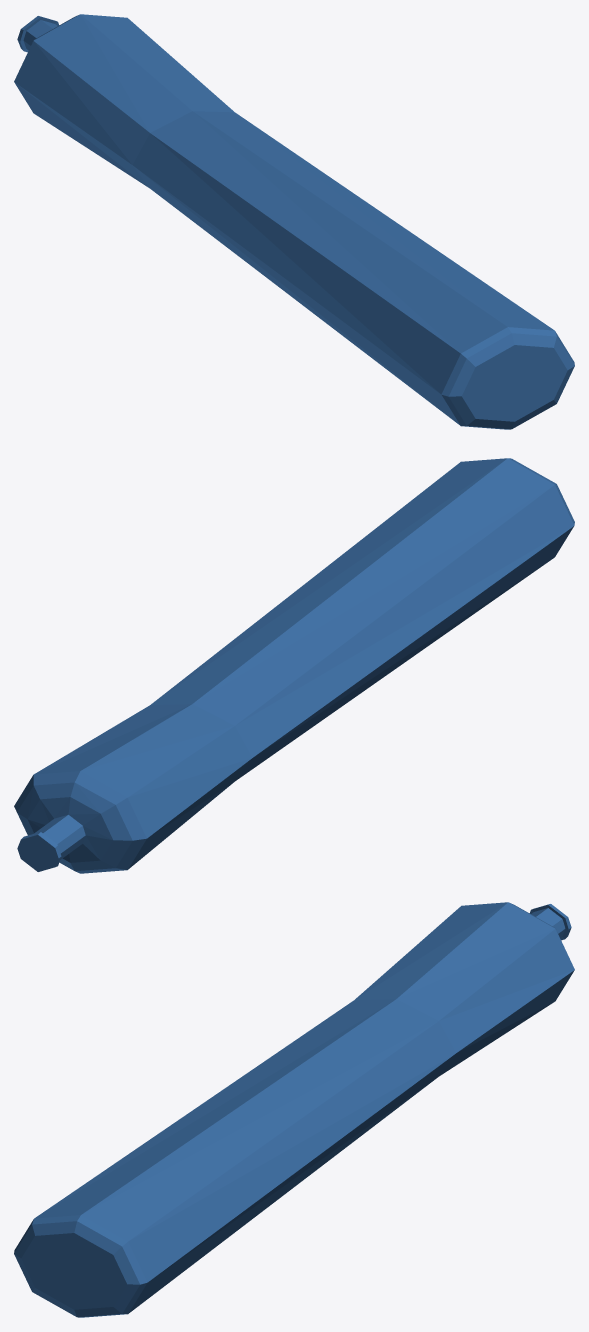
File: wip_sandbag.glb
3 views of the same model, one above another, from view 1: azimuth 30°, elevation 25°; view 2: azimuth 150°, elevation 25°; view 3: azimuth 330°, elevation 25° (orthographic).
Visible parts, largest first — view 1: product-27b554e0-7374-44e7-abc2-9ea58fc740ff-body; view 2: product-27b554e0-7374-44e7-abc2-9ea58fc740ff-body; view 3: product-27b554e0-7374-44e7-abc2-9ea58fc740ff-body.
Boxes of the visible parts, x1,y1,x2,y2 form: product-27b554e0-7374-44e7-abc2-9ea58fc740ff-body: (14, 14, 574, 429); product-27b554e0-7374-44e7-abc2-9ea58fc740ff-body: (14, 458, 574, 873); product-27b554e0-7374-44e7-abc2-9ea58fc740ff-body: (14, 902, 574, 1317).
Size of the model in its own units: 0.03 by 0.0221 by 0.1862.
